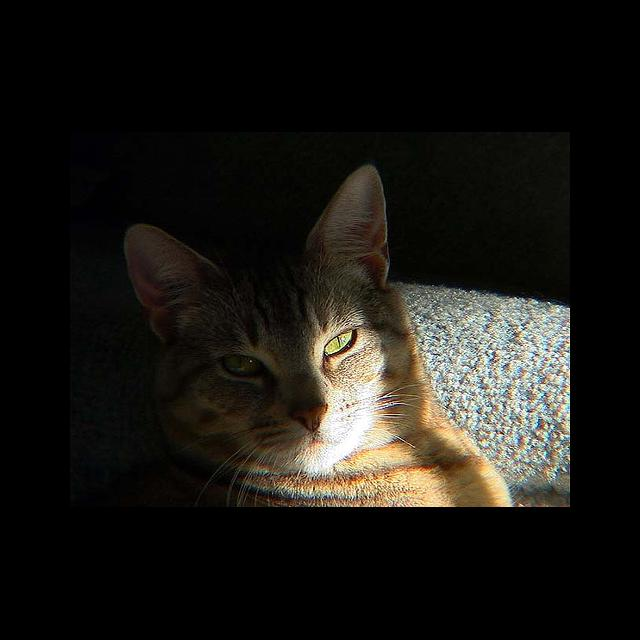animals: (134, 166, 382, 430)
